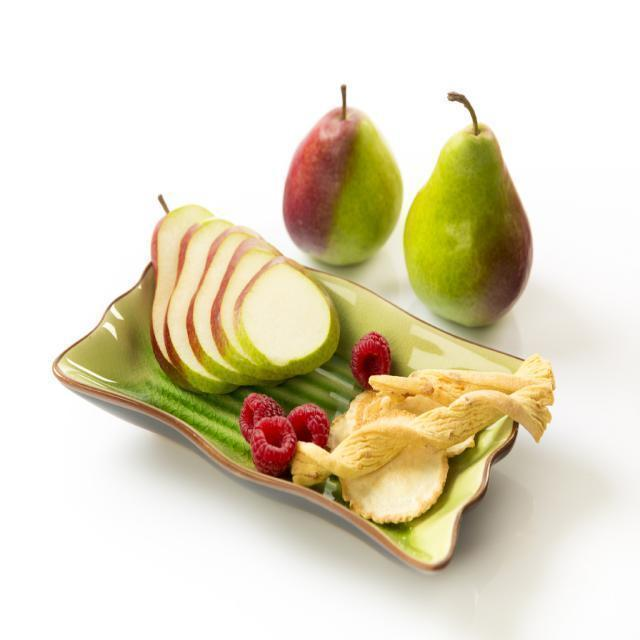Pear: (148, 202, 346, 390), (402, 120, 533, 326), (282, 110, 404, 268)
